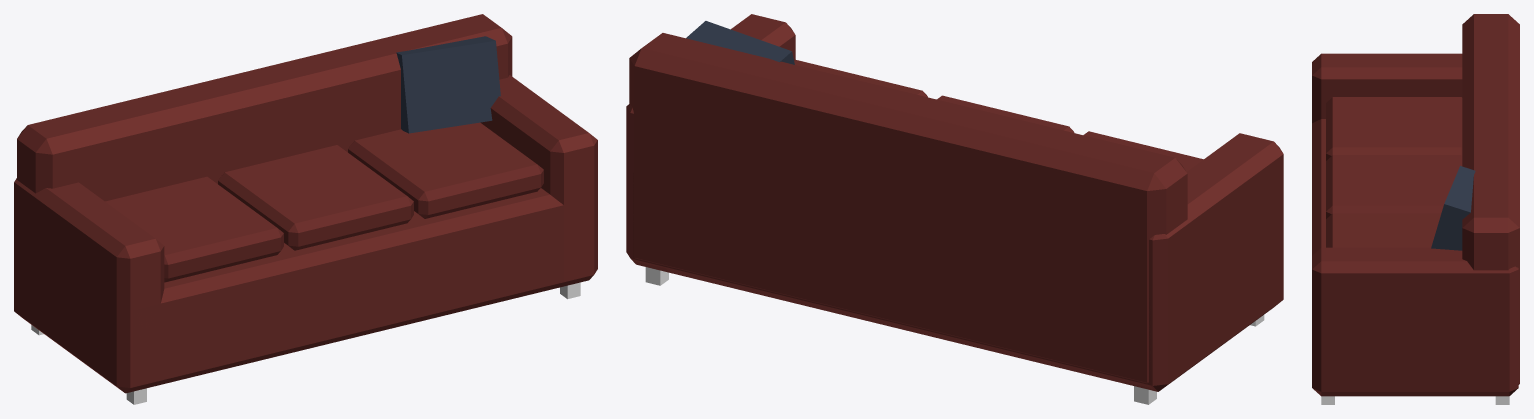
The model's file is Sofa.fbx.
3 renders of one model, left to right at view 1: azimuth 30°, elevation 25°; view 2: azimuth 150°, elevation 25°; view 3: azimuth 270°, elevation 25°, orthographic. The views are drawn at different scales.
Parts seen in each view (by area): view 1: Sofa; view 2: Sofa; view 3: Sofa.
Part boxes in pixels (x1,y1,x2,y2): Sofa: [14, 14, 597, 404]; Sofa: [626, 14, 1283, 404]; Sofa: [1312, 14, 1519, 404].
Size of the model in its own units: 2.22 by 0.9285 by 0.905.
